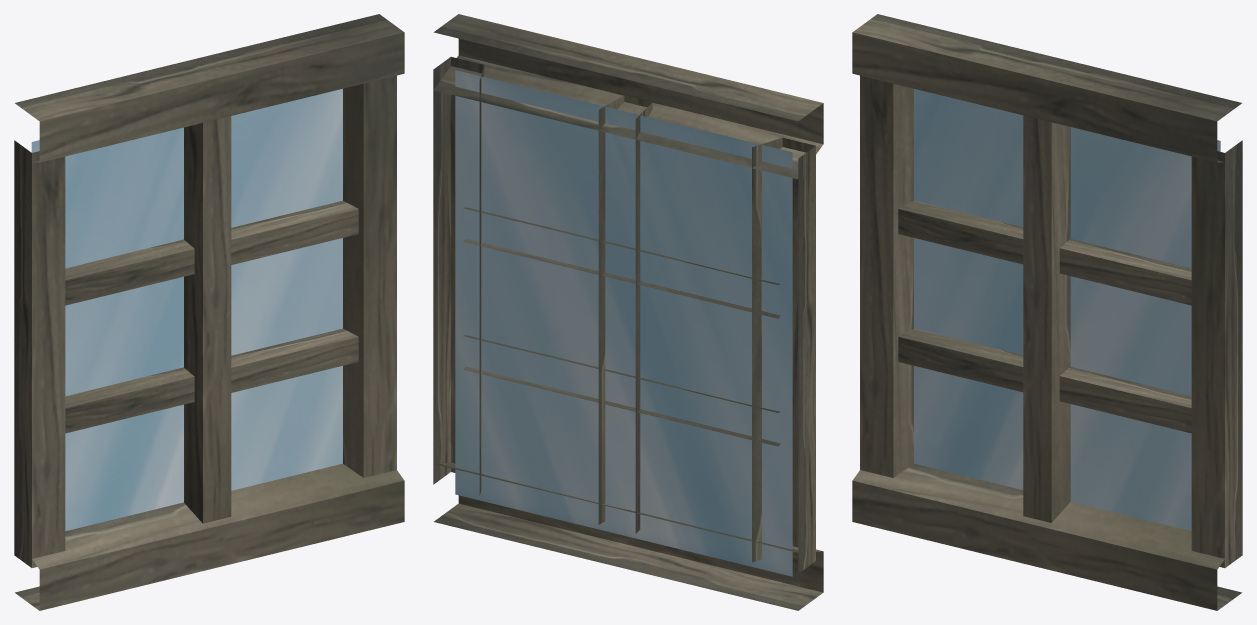
File: Window.FBX
The picture shows the model from 3 angles, left to right: view 1: azimuth 30°, elevation 25°; view 2: azimuth 150°, elevation 25°; view 3: azimuth 330°, elevation 25°; orthographic projection.
Parts seen in each view (by area): view 1: Window; view 2: Window; view 3: Window.
Boxes of the visible parts, <box> form: Window: <box>14,14,404,610</box>; Window: <box>433,14,823,610</box>; Window: <box>852,14,1242,610</box>.
Bounding box in the file's own units: 1.08 × 0.1291 × 1.39.
